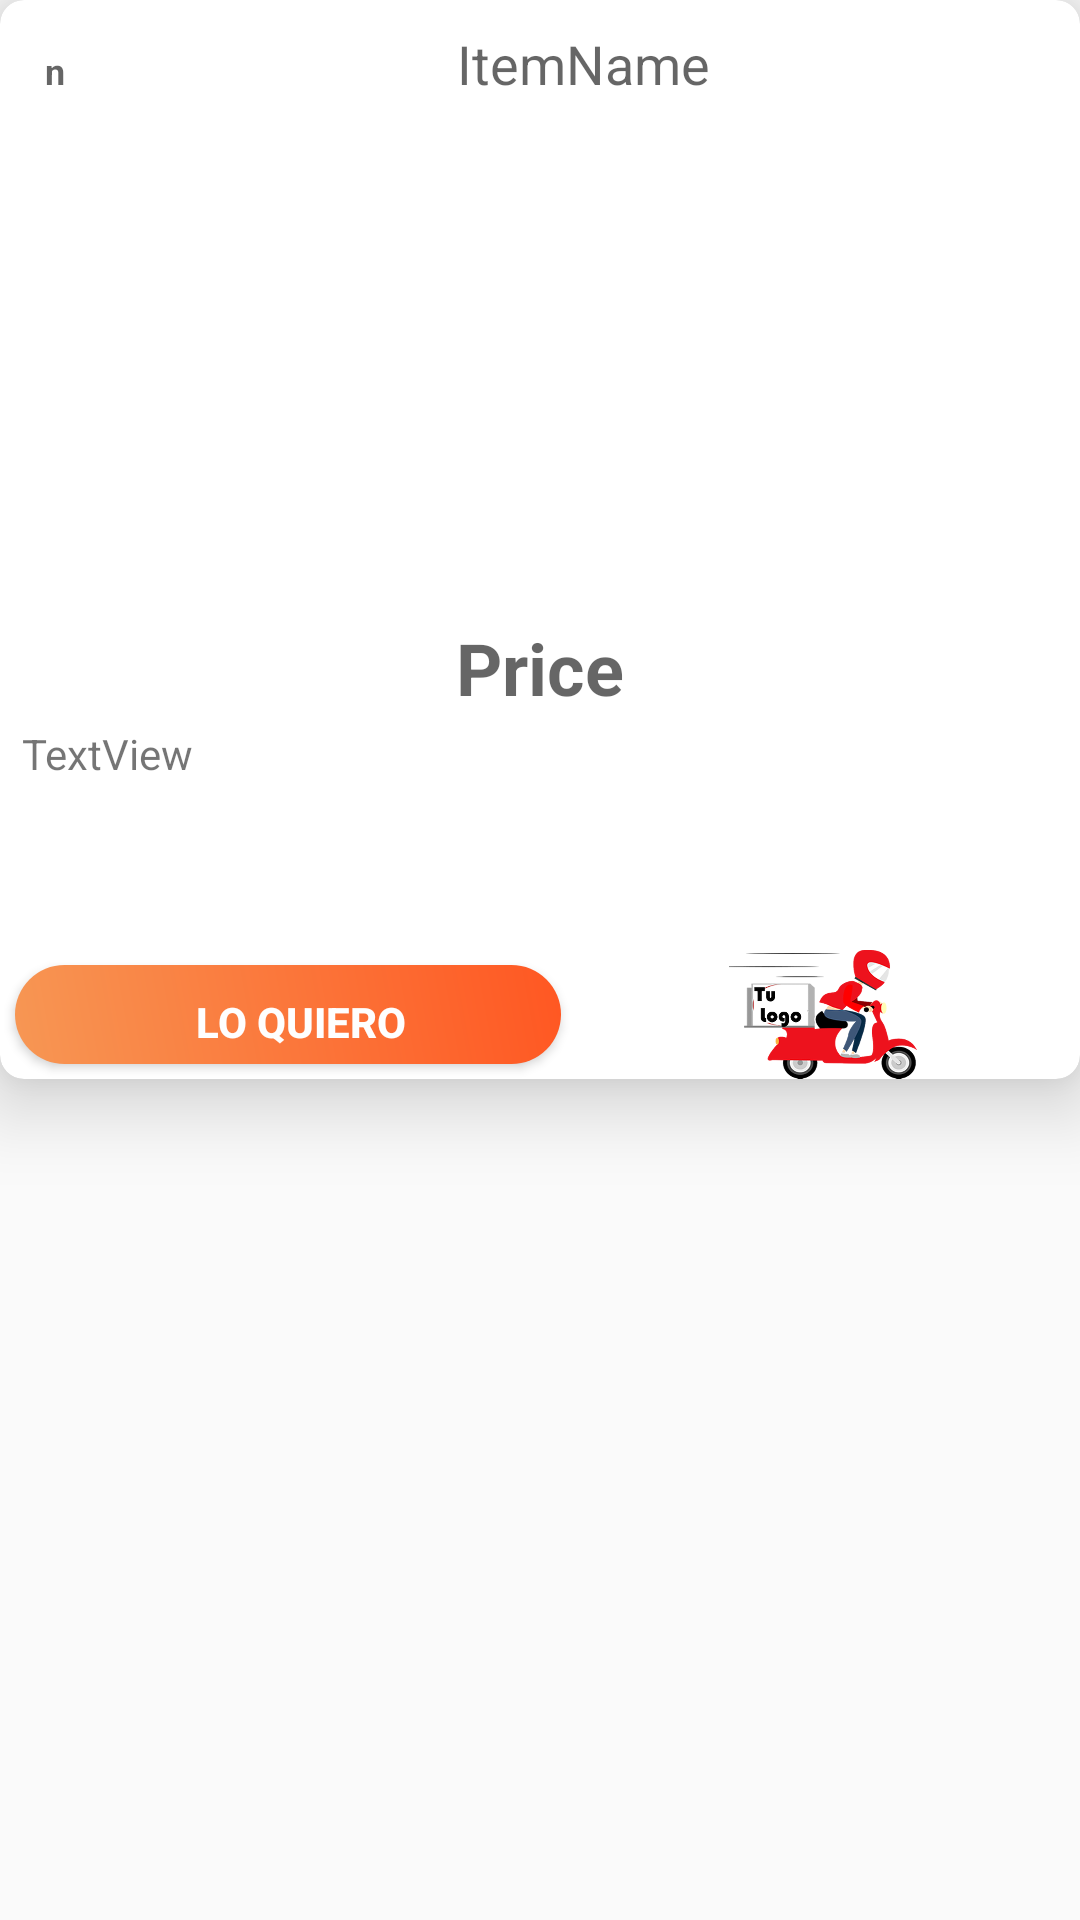

Where icons sit on this 1080px×1920px app screen, as (x1, y1, x2, y2):
motodelivery: (729, 950, 1080, 1079)
